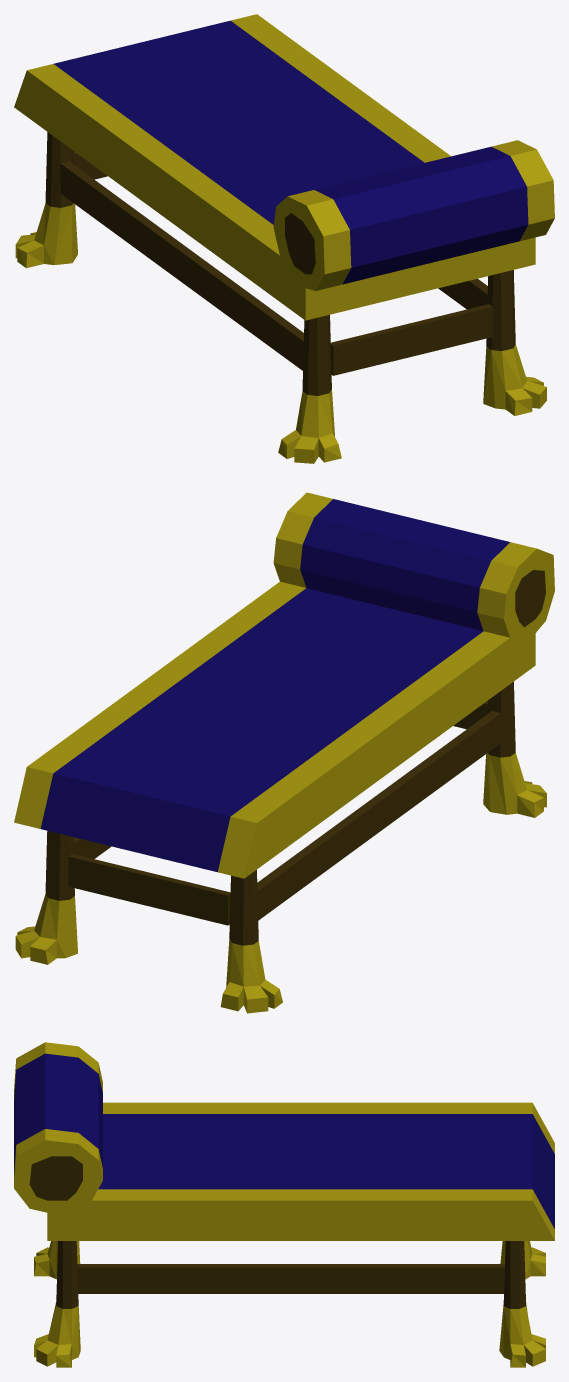
The model's file is obj_chaise_longue_0.obj.
3 renders of one model, top to bottom at view 1: azimuth 30°, elevation 25°; view 2: azimuth 150°, elevation 25°; view 3: azimuth 270°, elevation 25°, orthographic. The views are drawn at different scales.
Size of the model in its own units: 0.9062 by 0.8594 by 1.9.
